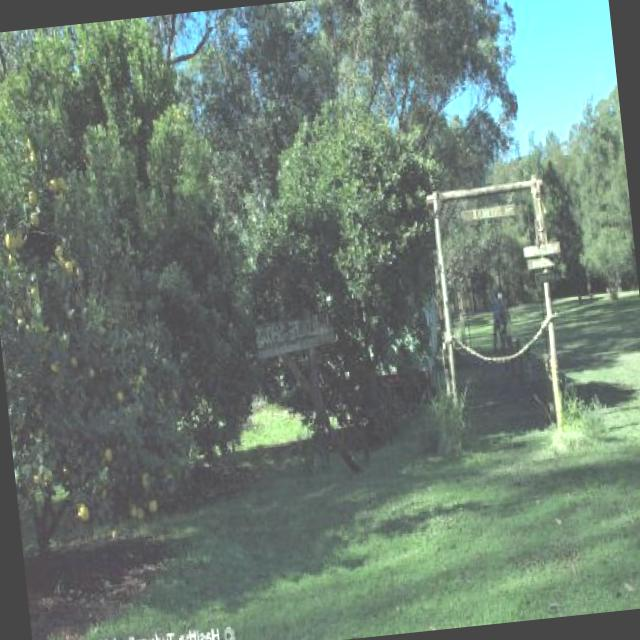Person: (494, 290, 514, 350)
